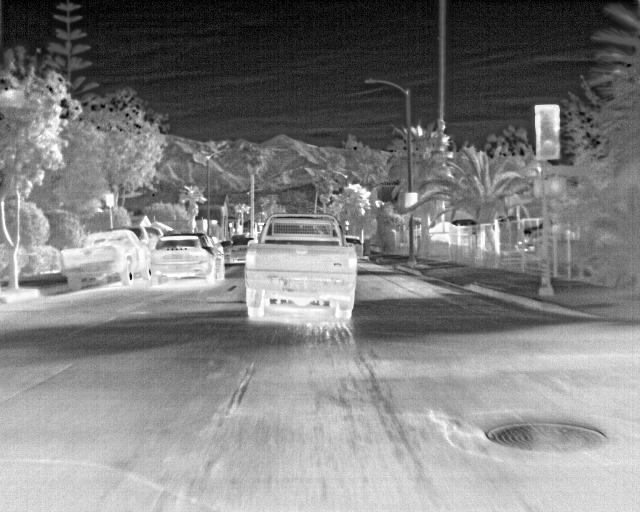car: (243, 211, 358, 321), (58, 227, 146, 293), (147, 232, 225, 288), (223, 235, 245, 268), (138, 223, 168, 244), (341, 235, 364, 262)
